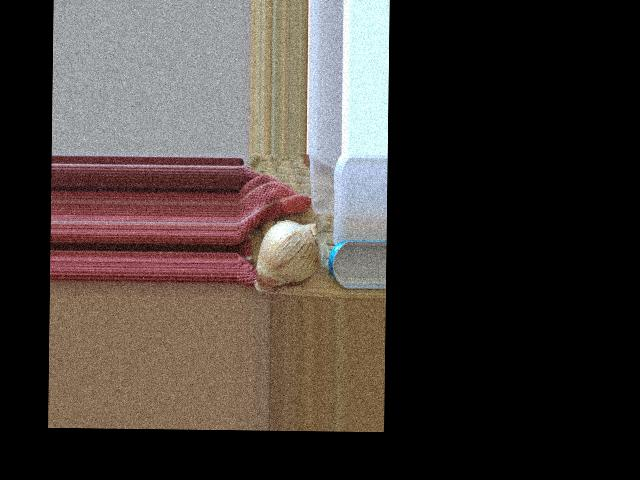onion: (253, 220, 322, 291)
